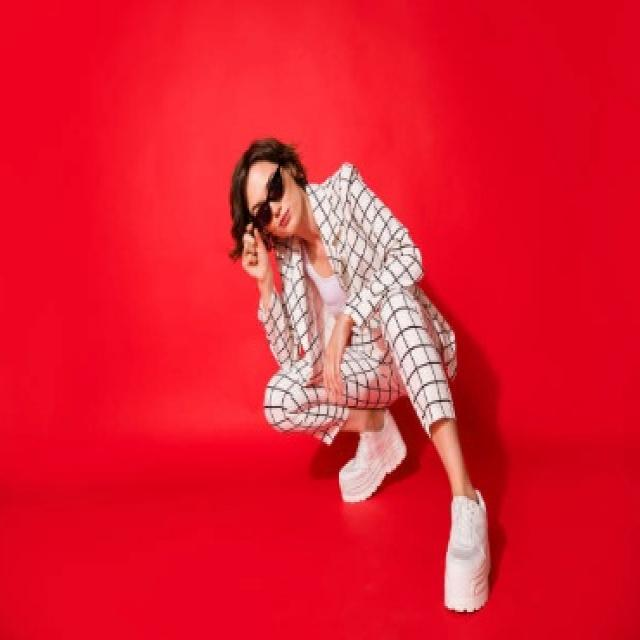adult: (225, 93, 500, 614)
